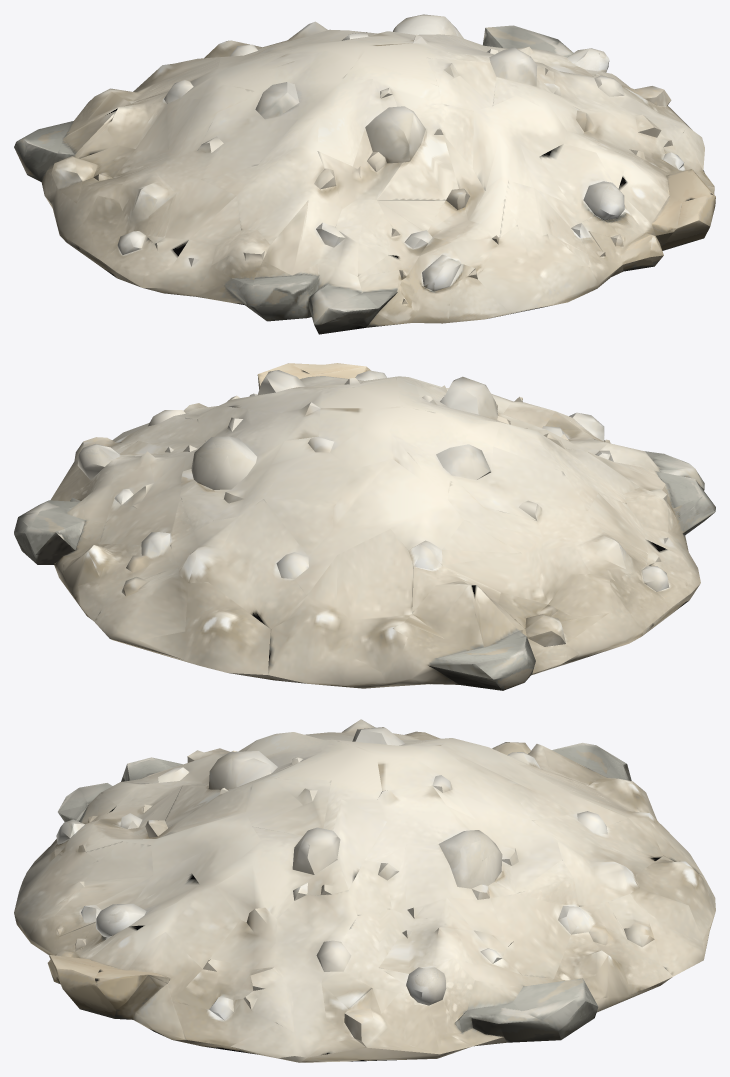
The picture shows the model from 3 angles, top to bottom: view 1: azimuth 30°, elevation 25°; view 2: azimuth 150°, elevation 25°; view 3: azimuth 270°, elevation 25°; orthographic projection. The views are drawn at different scales.
Visible parts, largest first — view 1: silicon_deposit; view 2: silicon_deposit; view 3: silicon_deposit.
Boxes of the visible parts, <box> form: silicon_deposit: <box>14,14,715,334</box>; silicon_deposit: <box>14,363,715,690</box>; silicon_deposit: <box>14,719,715,1062</box>.
Size of the model in its own units: 1.9 by 0.4484 by 1.85.
1 material, 1 textured.
